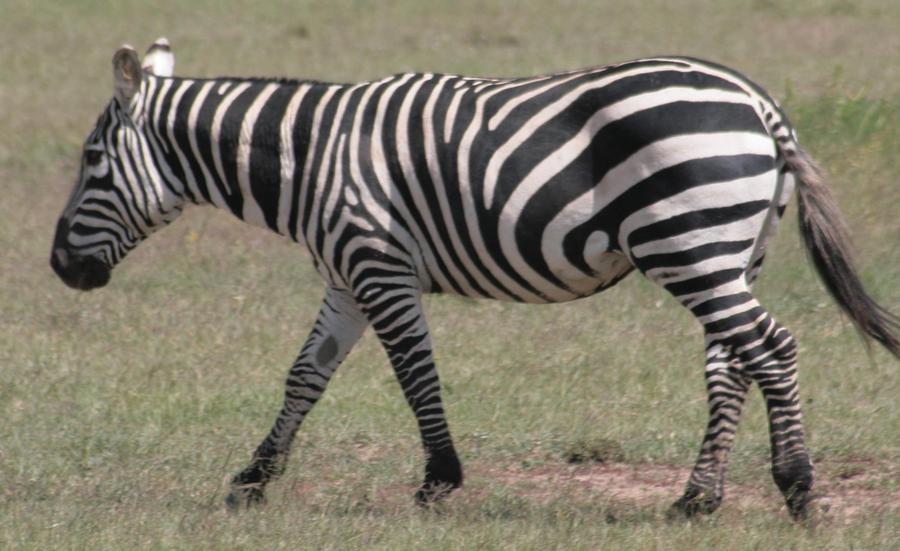zebra_plains: (272, 55, 781, 320)
